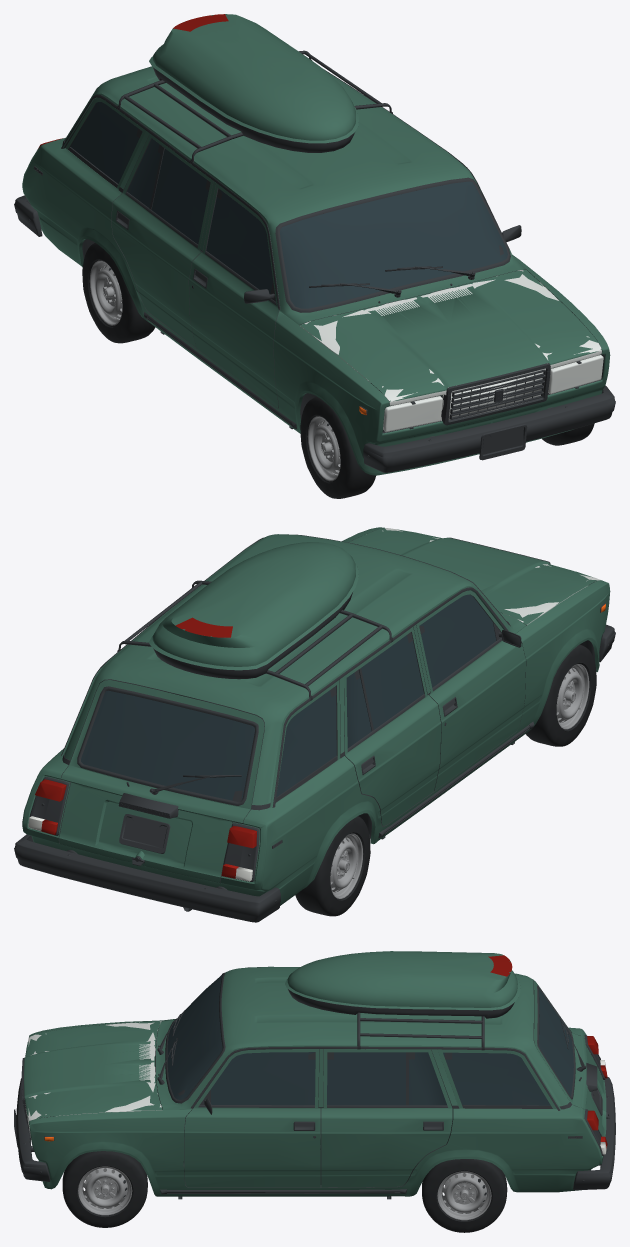
Rendered from vaz2104.glb.
3 renders of one model, top to bottom at view 1: azimuth 30°, elevation 25°; view 2: azimuth 150°, elevation 25°; view 3: azimuth 270°, elevation 25°, orthographic. The views are drawn at different scales.
Visible parts, largest first — view 1: chassisbody, glass, chassis_trim, headlights, interior, wheel_fr, wheel_rr; view 2: chassisbody, glass, chassis_trim, interior, wheel_rr, wheel_fr, taillights, headlights; view 3: chassisbody, glass, chassis_trim, wheel_fl, wheel_rl, interior, headlights, taillights.
Boxes of the visible parts, x1,y1,x2,y2 form: chassisbody: (22, 14, 610, 475); glass: (70, 102, 507, 308); chassis_trim: (14, 50, 615, 472); headlights: (299, 270, 603, 432); interior: (33, 69, 552, 437); wheel_fr: (300, 396, 375, 498); wheel_rr: (82, 243, 155, 343); chassisbody: (22, 527, 610, 905); glass: (81, 594, 496, 800); chassis_trim: (14, 531, 615, 922); interior: (29, 534, 595, 911); wheel_rr: (295, 816, 370, 916); wheel_fr: (526, 644, 596, 746); taillights: (35, 617, 256, 848); headlights: (382, 528, 600, 624); chassisbody: (24, 951, 606, 1196); glass: (167, 974, 573, 1105); chassis_trim: (14, 980, 615, 1190); wheel_fl: (62, 1151, 147, 1227); wheel_rl: (422, 1159, 507, 1232); interior: (30, 966, 605, 1199); headlights: (25, 1021, 162, 1147); taillights: (488, 955, 598, 1130).
Bounding box in the file's own units: 1.83 × 1.76 × 4.26.
